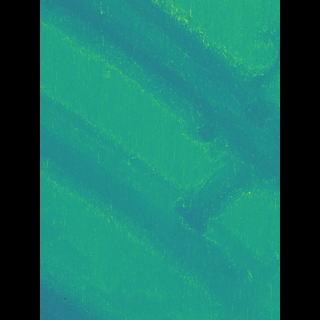Loch: (69, 84, 246, 320), (70, 0, 252, 227)
